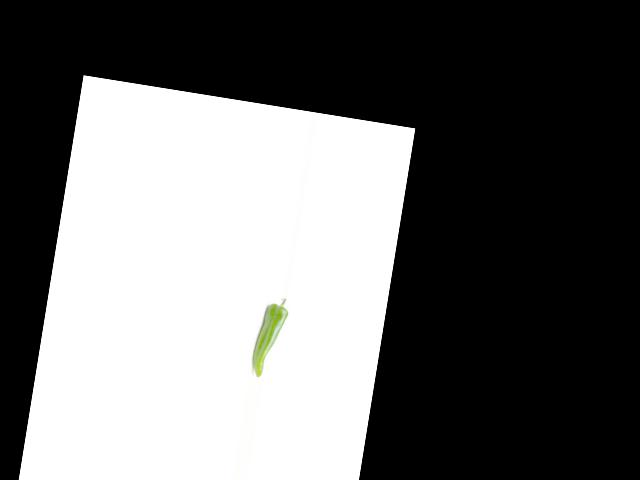bell_pepper: (247, 291, 292, 380)
